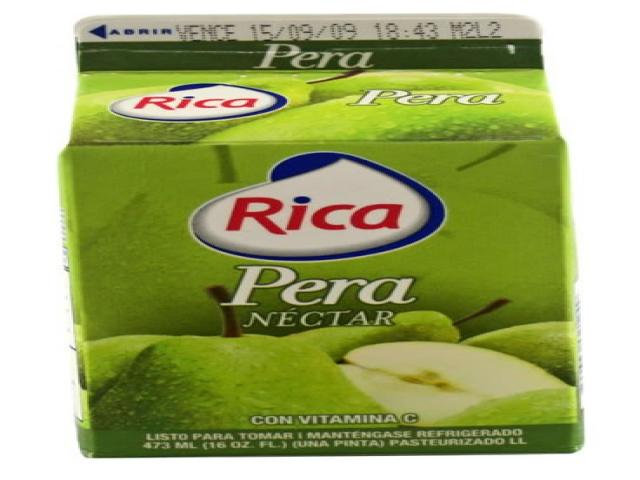drink_box: (50, 9, 590, 461)
